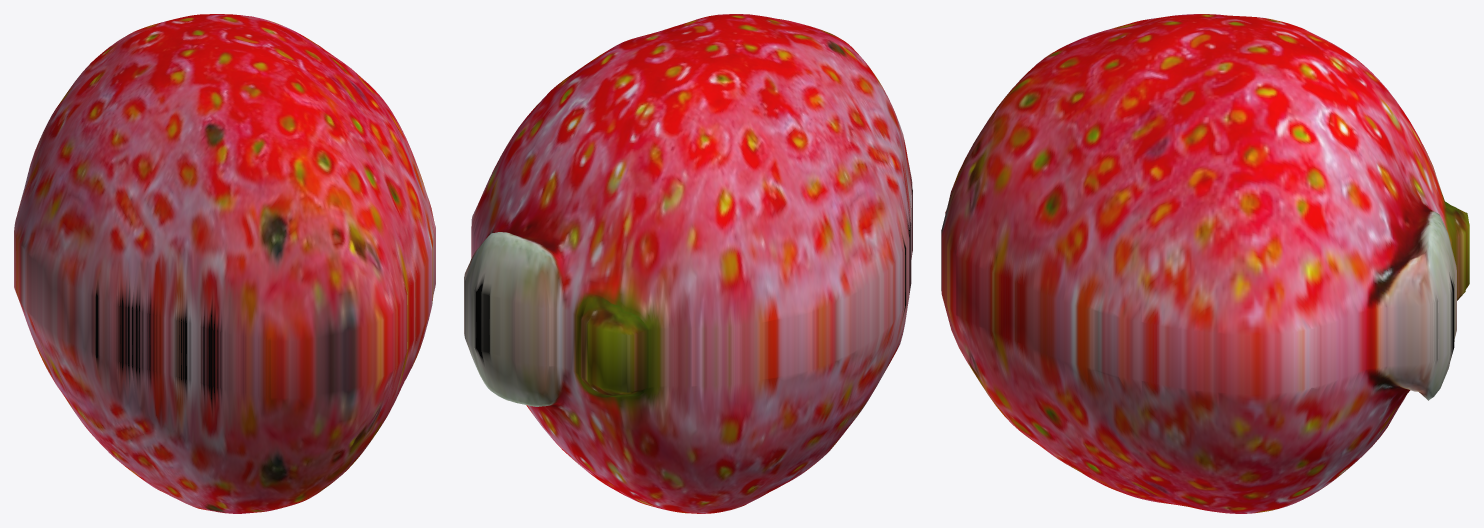
The model's file is strawberry_6.obj.
3 views of the same model, side by side, from view 1: azimuth 30°, elevation 25°; view 2: azimuth 150°, elevation 25°; view 3: azimuth 270°, elevation 25° (orthographic). The views are drawn at different scales.
Parts seen in each view (by area): view 1: Grid; view 2: Grid; view 3: Grid.
Part boxes in pixels (x1,y1,x2,y2): Grid: (14, 14, 435, 513); Grid: (464, 14, 912, 513); Grid: (941, 14, 1469, 513).
Bounding box in the file's own units: 1.38 × 1.6 × 1.65.
1 material, 1 textured.
